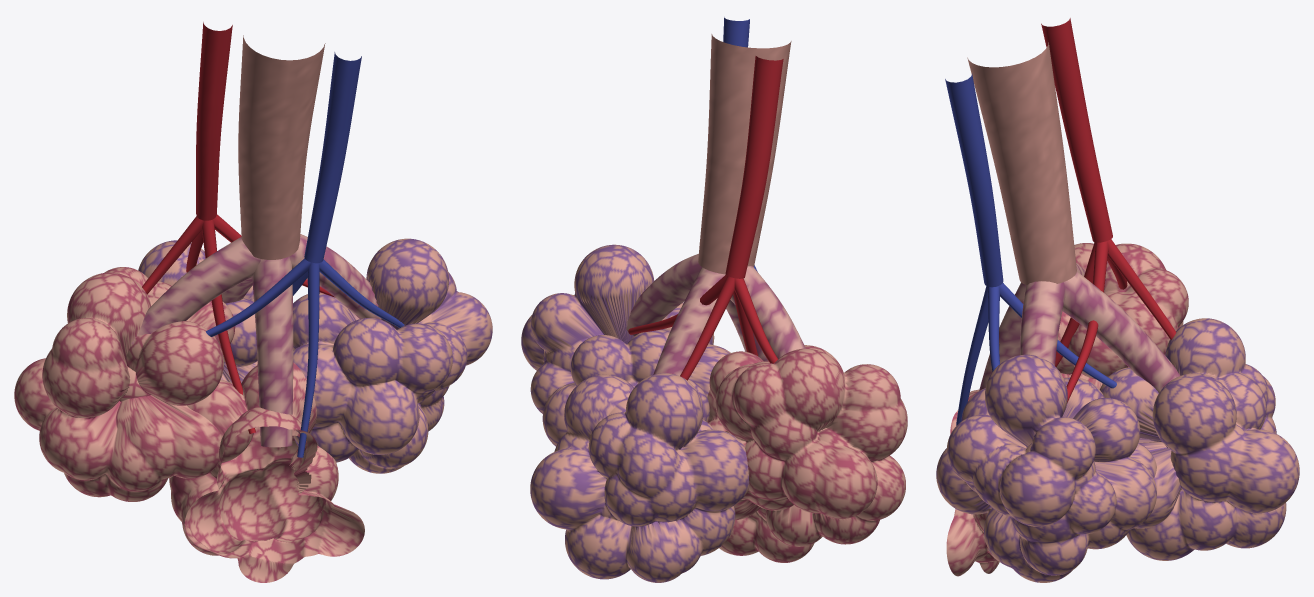
File: x-alveoli.a8f39e1b.glb
The picture shows the model from 3 angles, left to right: view 1: azimuth 30°, elevation 25°; view 2: azimuth 150°, elevation 25°; view 3: azimuth 270°, elevation 25°; orthographic projection. The views are drawn at different scales.
Visible parts, largest first — view 1: Air sacs, Inside an air sac, Respiratory bronchiole, Alveolar duct, Pulmonary arteriole, Pulmonary venule; view 2: Air sacs, Respiratory bronchiole, Pulmonary venule, Alveolar duct, Inside an air sac, Pulmonary arteriole; view 3: Air sacs, Respiratory bronchiole, Alveolar duct, Pulmonary venule, Pulmonary arteriole, Inside an air sac.
Part boxes in pixels (x1,y1,x2,y2): Air sacs: (14,238,492,501); Inside an air sac: (169,362,364,582); Respiratory bronchiole: (238,35,325,259); Alveolar duct: (131,234,381,447); Pulmonary arteriole: (206,52,404,457); Pulmonary venule: (142,22,334,433); Air sacs: (521,244,907,582); Respiratory bronchiole: (698,34,791,274); Pulmonary venule: (628,56,783,380); Alveolar duct: (626,254,805,375); Inside an air sac: (707,389,814,562); Pulmonary arteriole: (723,17,757,271); Air sacs: (936,243,1299,582); Respiratory bronchiole: (967,42,1076,285); Alveolar duct: (979,263,1180,392); Pulmonary venule: (1041,18,1176,403); Pulmonary arteriole: (945,73,1116,425); Inside an air sac: (946,373,1070,576).
Bounding box in the file's own units: 0.2398 × 0.3 × 0.1811.
